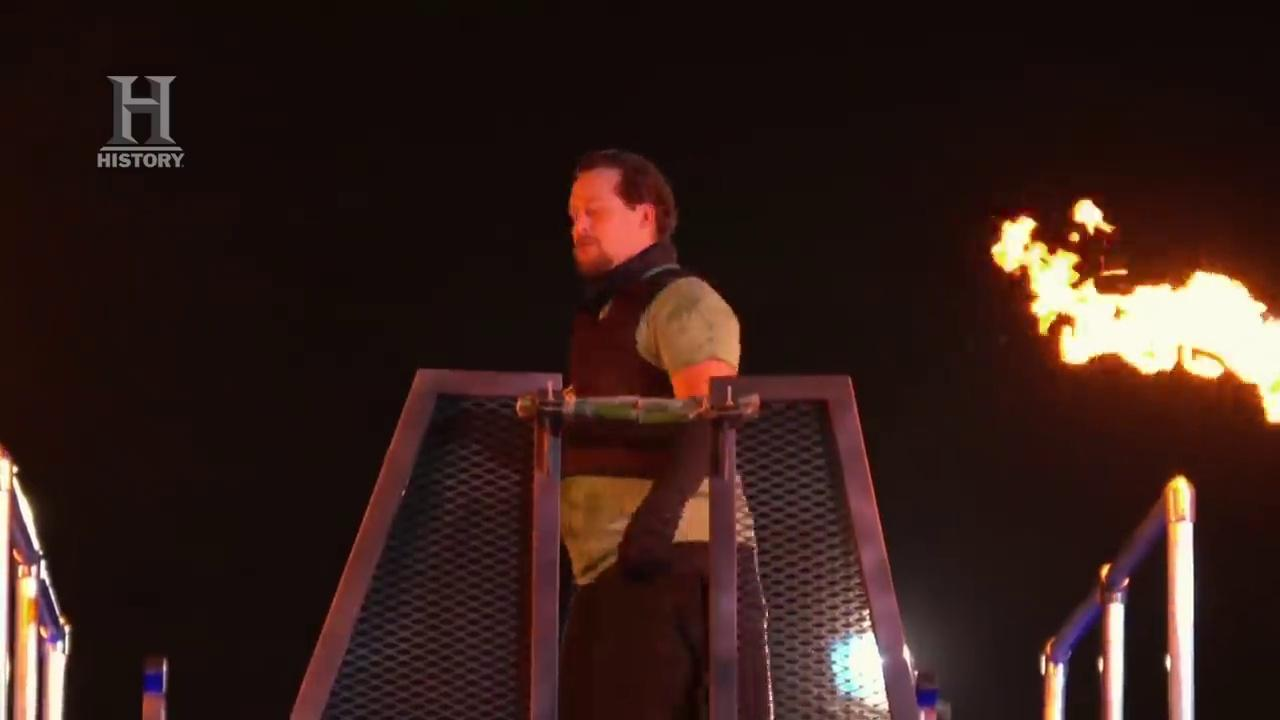fire: (1054, 262, 1264, 402)
